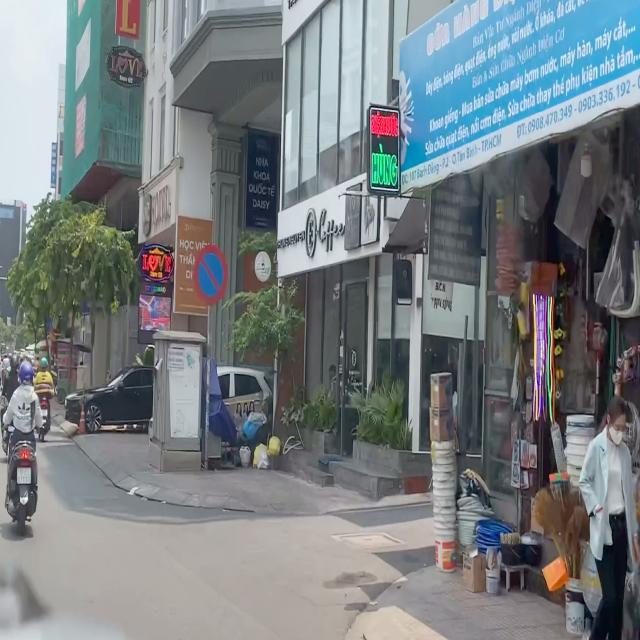Cam do: (194, 243, 228, 304)
